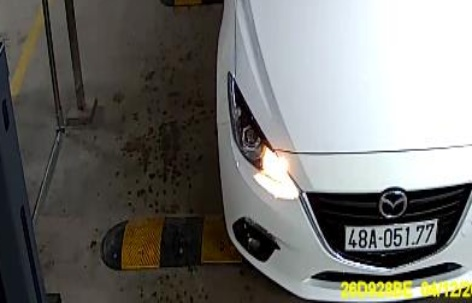plate: (341, 215, 440, 257)
